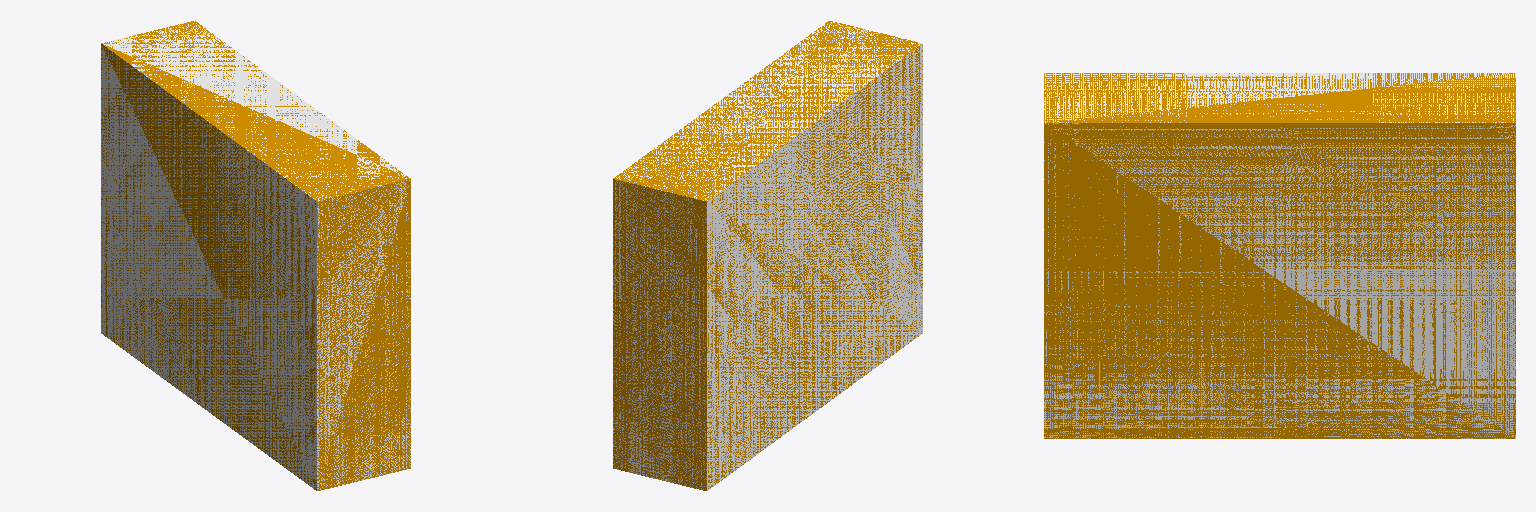
The robot description file, URDF, robot "my_object":
<?xml version="1.0" ?> 
<robot name="my_object" static="true">
  <link name="base_link">
  <inertial>
    <mass value="20.0" />
    <origin xyz="0 0 0.0" />
    <inertia ixx="1.0" ixy="0.0" ixz="0.0" iyy="1.0" iyz="0.0" izz="1.0"/>
  </inertial>
  <visual>
   <origin xyz="0 0 0.0" rpy="0 0 0" />
   <geometry>
     <mesh filename="package://cob_gazebo_objects/Media/models/dresser_covaro.dae"/>
   </geometry>
  </visual>
  <collision>
   <origin xyz="0 0 0.37" rpy="0 0 0" />
   <geometry>
     <box size="0.25 1.0 0.74" />
   </geometry>
  </collision>     
  </link>

<gazebo>
	<static>false</static>
</gazebo>
</robot>

--- Render facts (derived) ---
The picture shows the robot from 3 angles, left to right: view 1: azimuth 30°, elevation 25°; view 2: azimuth 150°, elevation 25°; view 3: azimuth 270°, elevation 25°; orthographic projection.
Robot: my_object — 1 links, 0 joints (none); root link base_link; default pose: every joint at zero.
Visible links, largest first — view 1: base_link; view 2: base_link; view 3: base_link.
Boxes of the visible links, x1,y1,x2,y2 form: base_link: (101,21,410,490); base_link: (613,21,922,490); base_link: (1044,73,1515,438).
Bounding box of the posed robot: 0.2503 × 0.9995 × 0.7396 m (x, y, z).
1 mesh visuals loaded from 1 distinct referenced files (1 Collada DAE).
